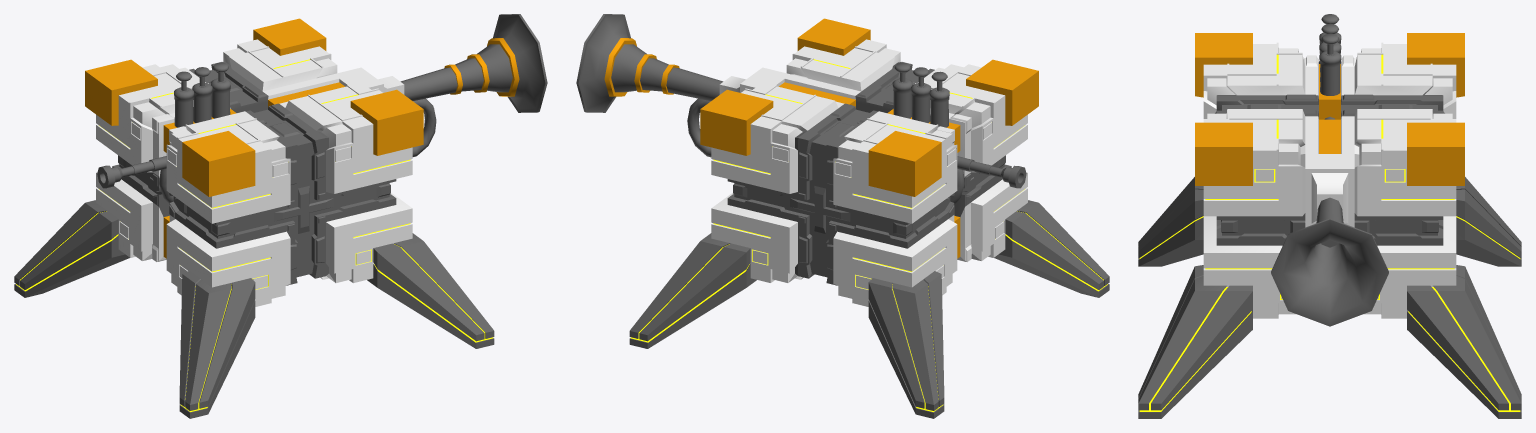
The model's file is Trumpet Weapon V1.fbx.
3 views of the same model, side by side, from view 1: azimuth 30°, elevation 25°; view 2: azimuth 150°, elevation 25°; view 3: azimuth 270°, elevation 25° (orthographic). The views are drawn at different scales.
Parts seen in each view (by area): view 1: Casing low_poly; view 2: Casing low_poly; view 3: Casing low_poly.
Boxes of the visible parts, x1=… form: Casing low_poly: x1=14, y1=14, x2=547, y2=418; Casing low_poly: x1=576, y1=14, x2=1109, y2=418; Casing low_poly: x1=1138, y1=14, x2=1521, y2=418.
Size of the model in its own units: 185 by 110 by 134.
